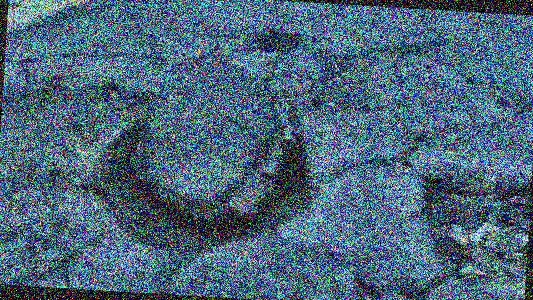pothole: (77, 100, 323, 273), (409, 166, 531, 291)
